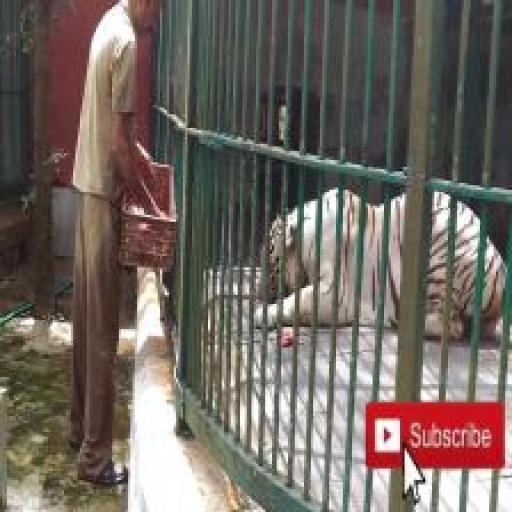Tiger: (253, 185, 512, 337)
